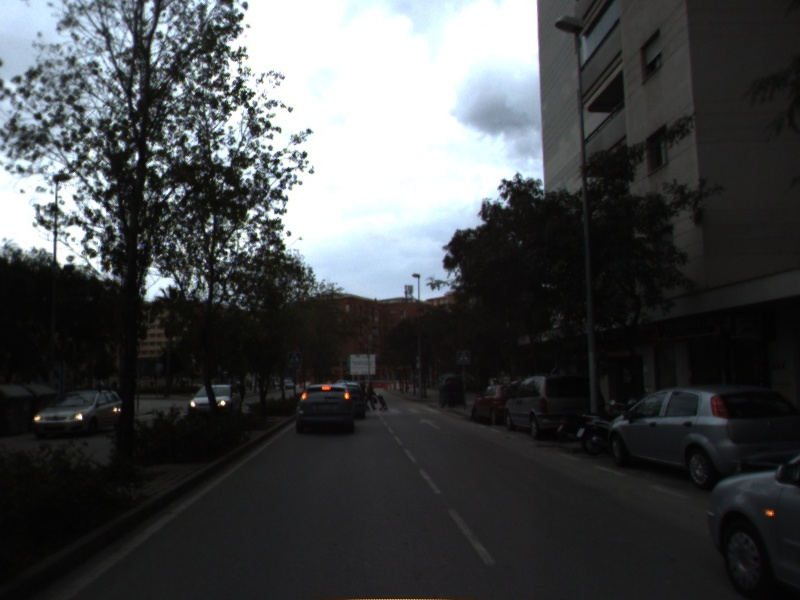STRAIGHT: (416, 416, 444, 432)
